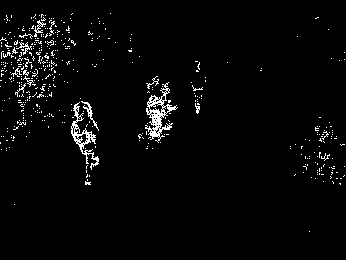person: (70, 100, 101, 187), (189, 59, 207, 115)
